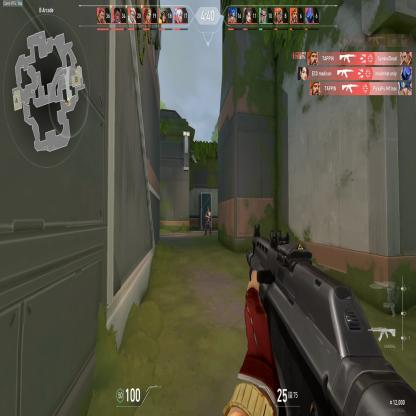enemy: (204, 207, 212, 237)
